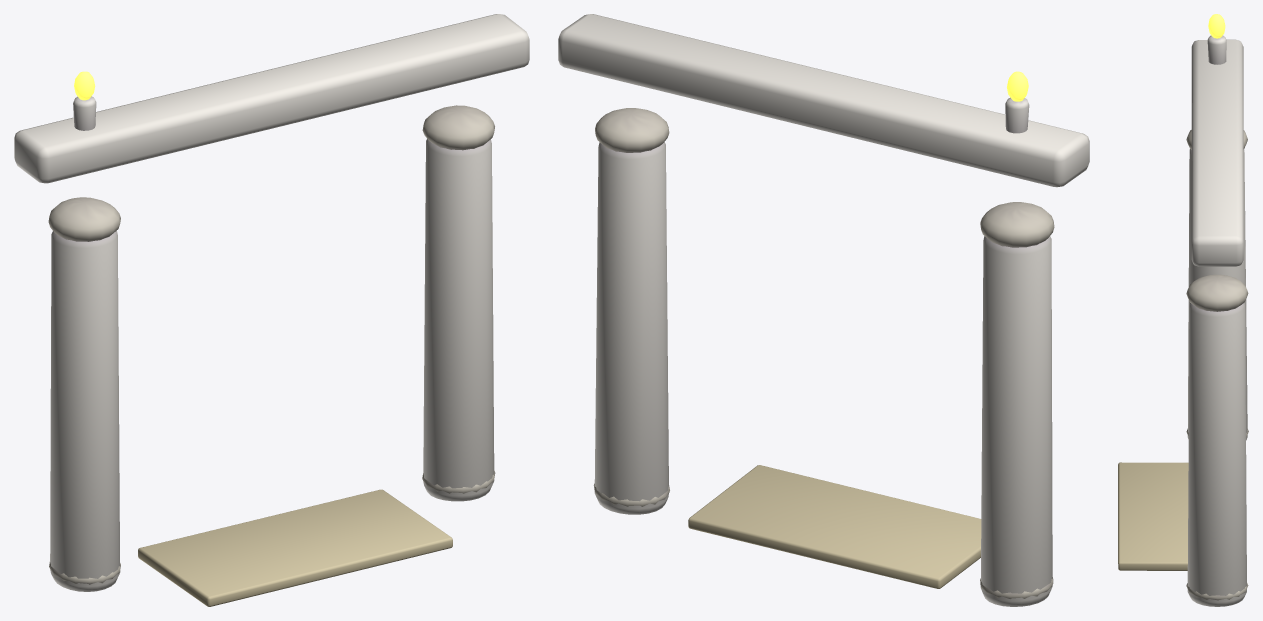
The picture shows the model from 3 angles, left to right: view 1: azimuth 30°, elevation 25°; view 2: azimuth 150°, elevation 25°; view 3: azimuth 270°, elevation 25°; orthographic projection. The views are drawn at different scales.
Visible parts, largest first — view 1: gate_556c03e8; view 2: gate_556c03e8; view 3: gate_556c03e8.
Part boxes in pixels (<box>): gate_556c03e8: <box>14,14,529,606</box>; gate_556c03e8: <box>558,14,1089,606</box>; gate_556c03e8: <box>1118,14,1248,606</box>.
Bounding box in the file's own units: 4.81 × 4.77 × 1.31.
